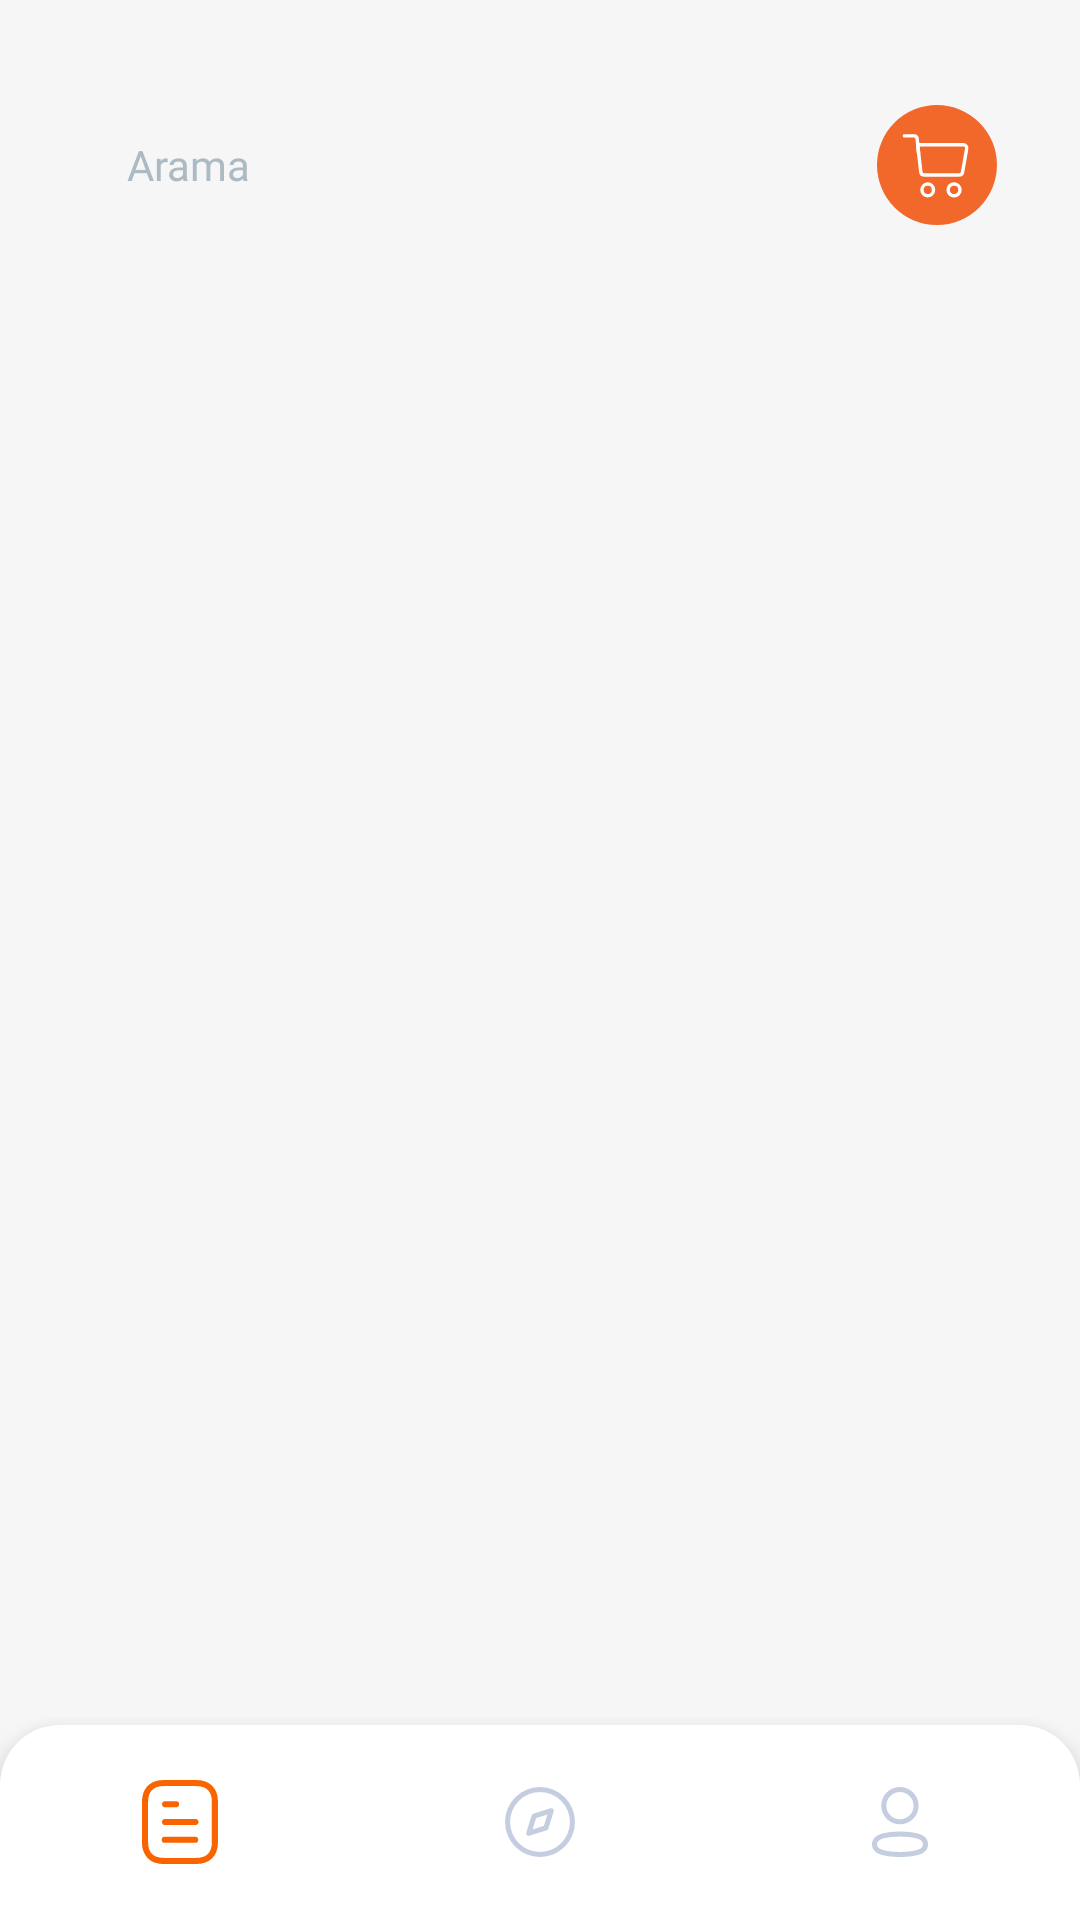

Icons on this 1080 x 1920 Android screen, each with its box as [x1=x1, y1=y1, x2=x2, y2=y2]:
shopping cart: [x1=877, y1=105, x2=997, y2=225]
